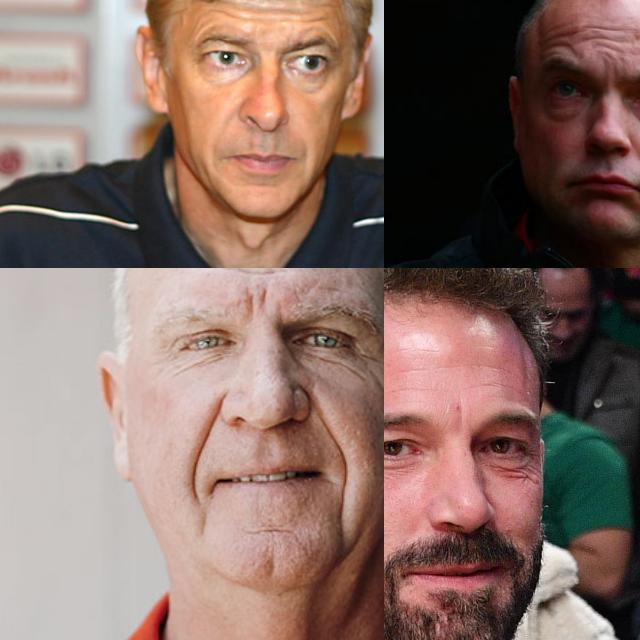chin: (246, 518, 296, 540)
forehead: (582, 20, 622, 60), (469, 368, 511, 396), (196, 3, 248, 23), (256, 0, 302, 21), (218, 268, 291, 280), (300, 4, 332, 28), (545, 29, 571, 55)
frown_line: (240, 282, 274, 322), (450, 397, 470, 437)
gummy_smile: (308, 388, 346, 452), (190, 411, 220, 475)
sad_smile: (328, 464, 358, 510)
